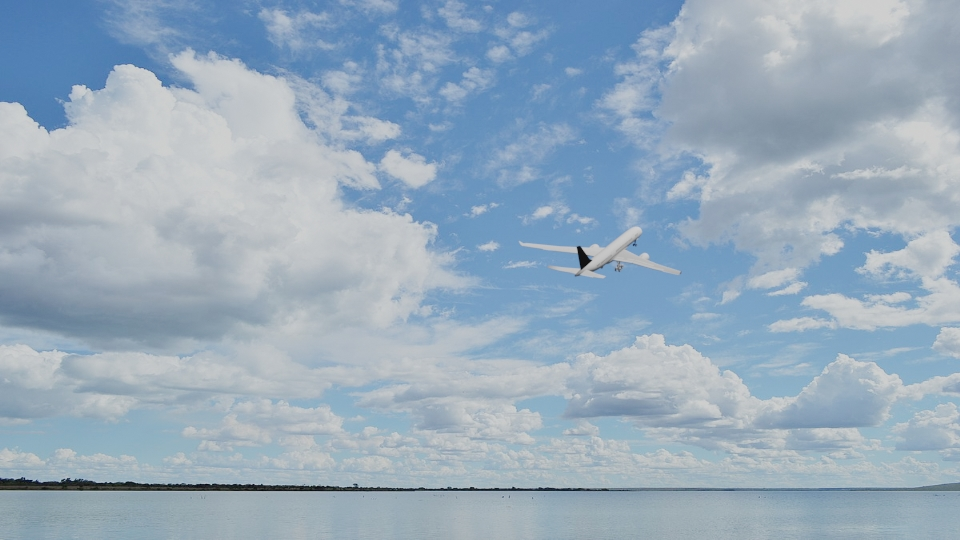plane: (517, 225, 684, 278)
